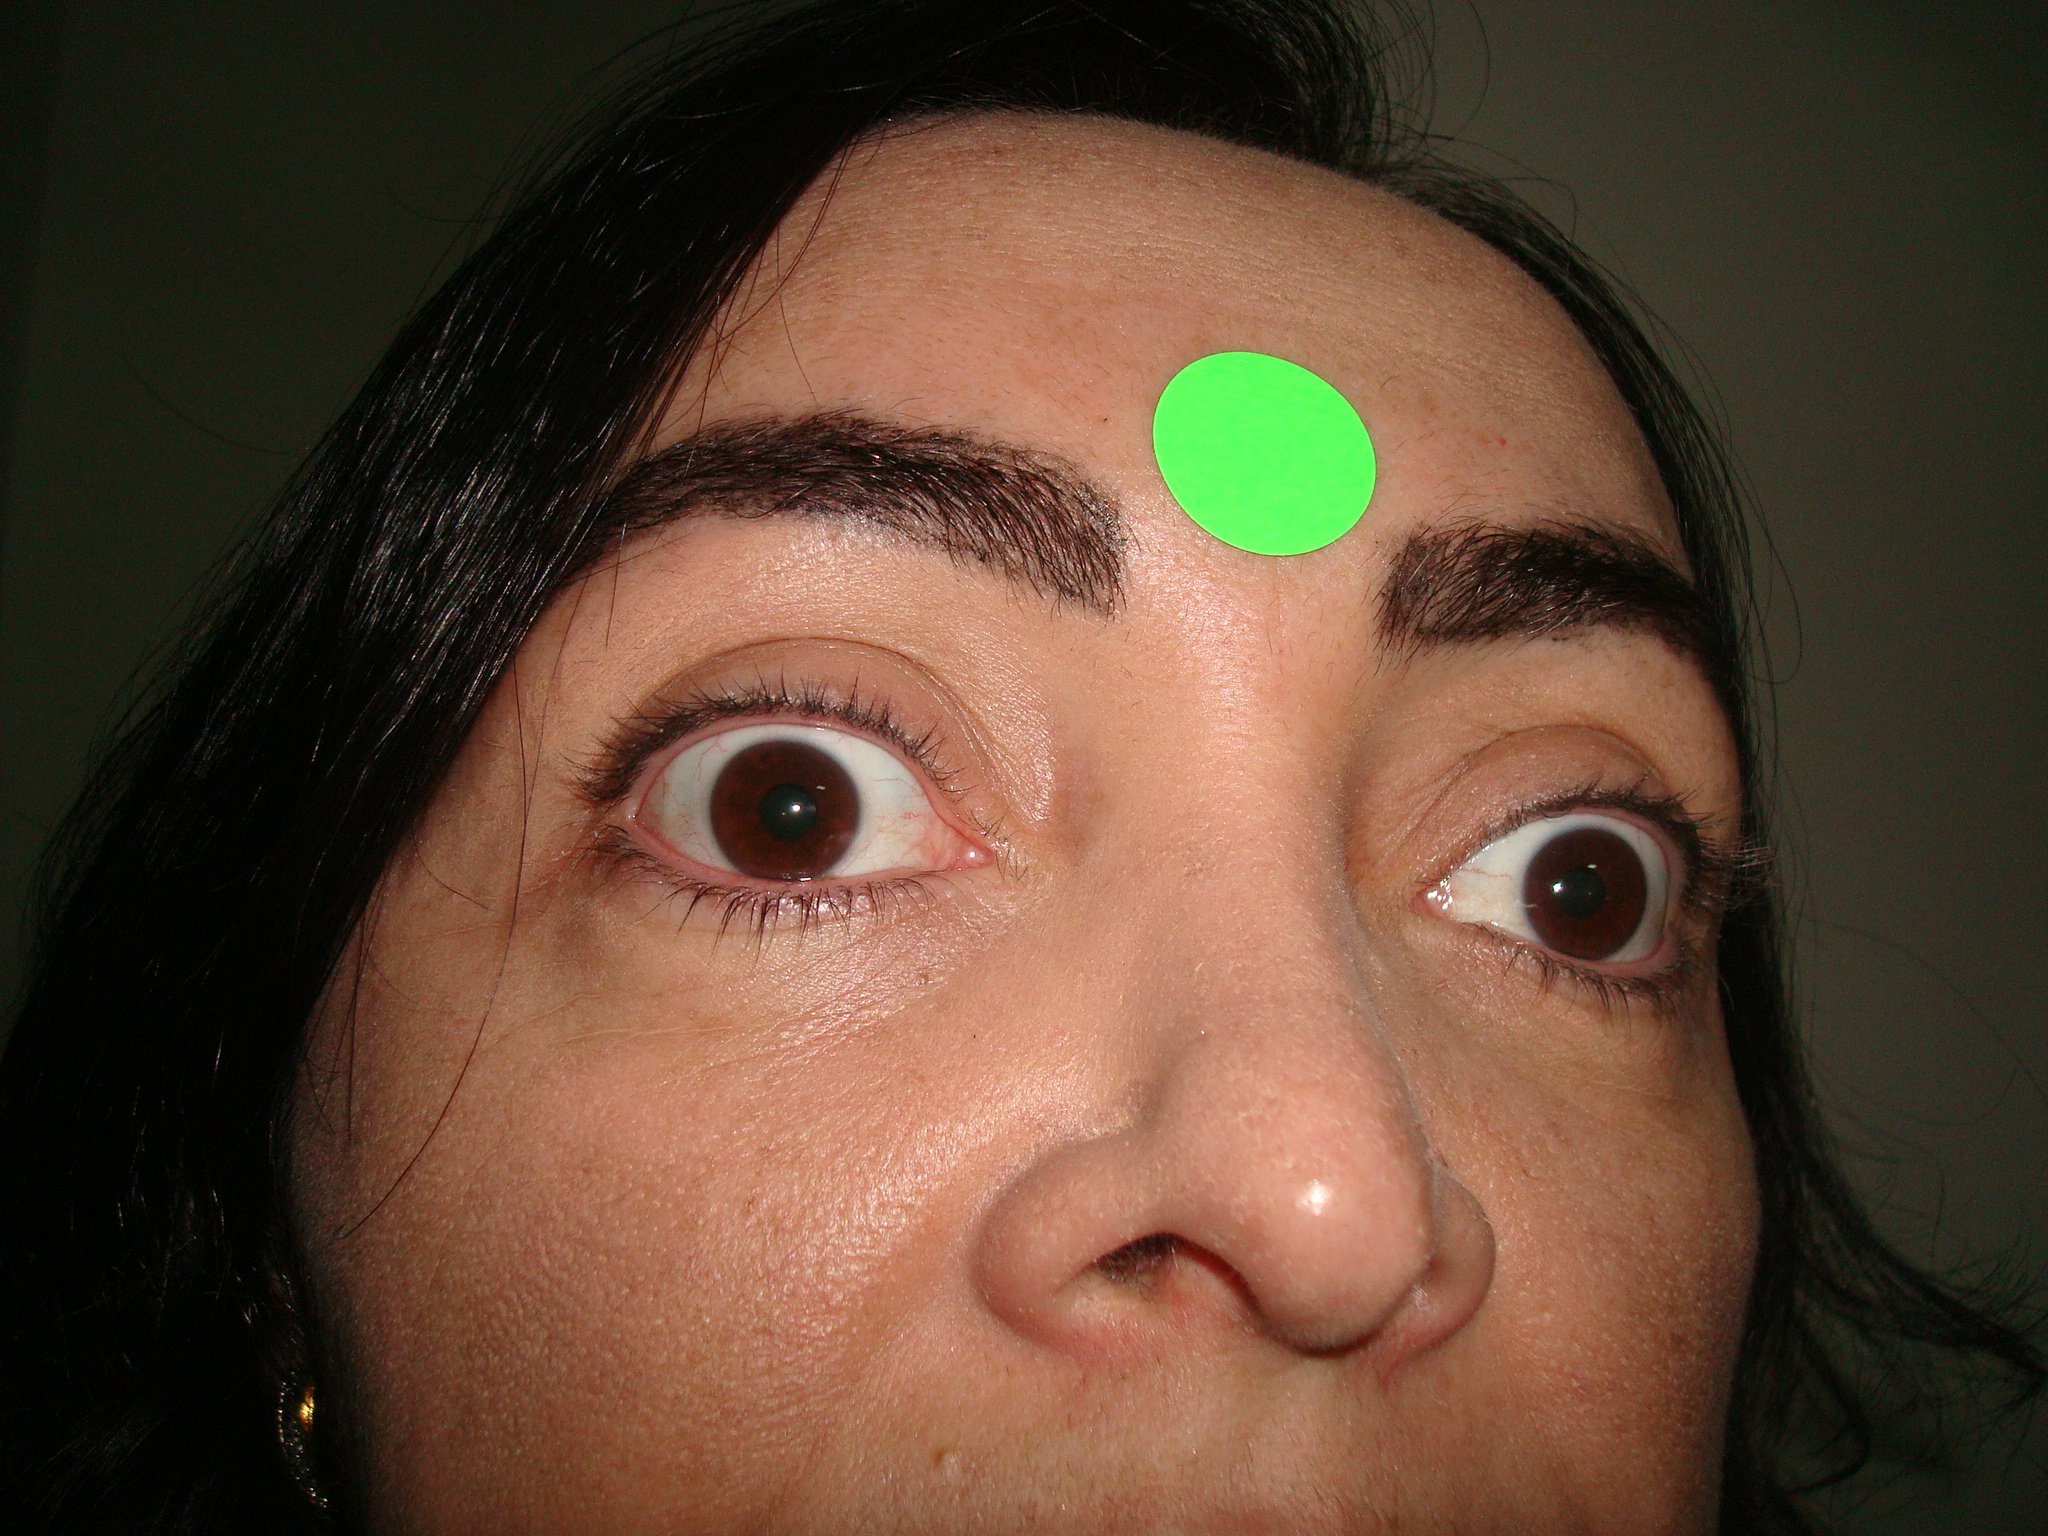flash: (787, 799, 806, 818), (1546, 879, 1566, 897)
limbo: (714, 742, 856, 881), (1521, 828, 1637, 952)
